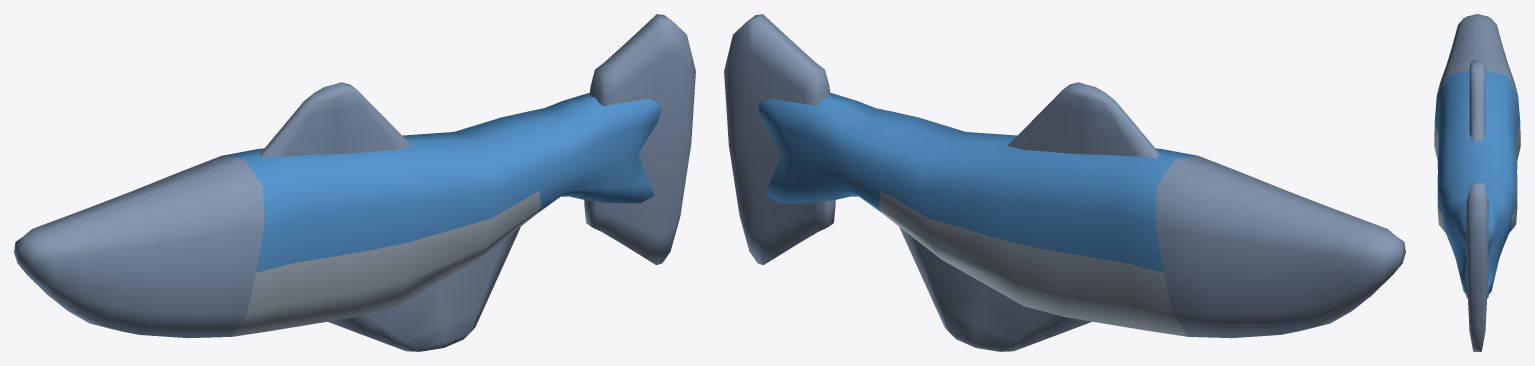
The model's file is Fish Mackerel.glb.
The picture shows the model from 3 angles, left to right: view 1: azimuth 30°, elevation 25°; view 2: azimuth 150°, elevation 25°; view 3: azimuth 270°, elevation 25°; orthographic projection. The views are drawn at different scales.
Visible parts, largest first — view 1: Prop_Fish_Mackerel; view 2: Prop_Fish_Mackerel; view 3: Prop_Fish_Mackerel.
Part boxes in pixels (x1,y1,x2,y2): Prop_Fish_Mackerel: [14, 14, 695, 351]; Prop_Fish_Mackerel: [724, 14, 1405, 351]; Prop_Fish_Mackerel: [1434, 14, 1520, 351].
Size of the model in its own units: 1.56 by 0.6294 by 0.2494.
Materials: 1 (1 with a texture image).
